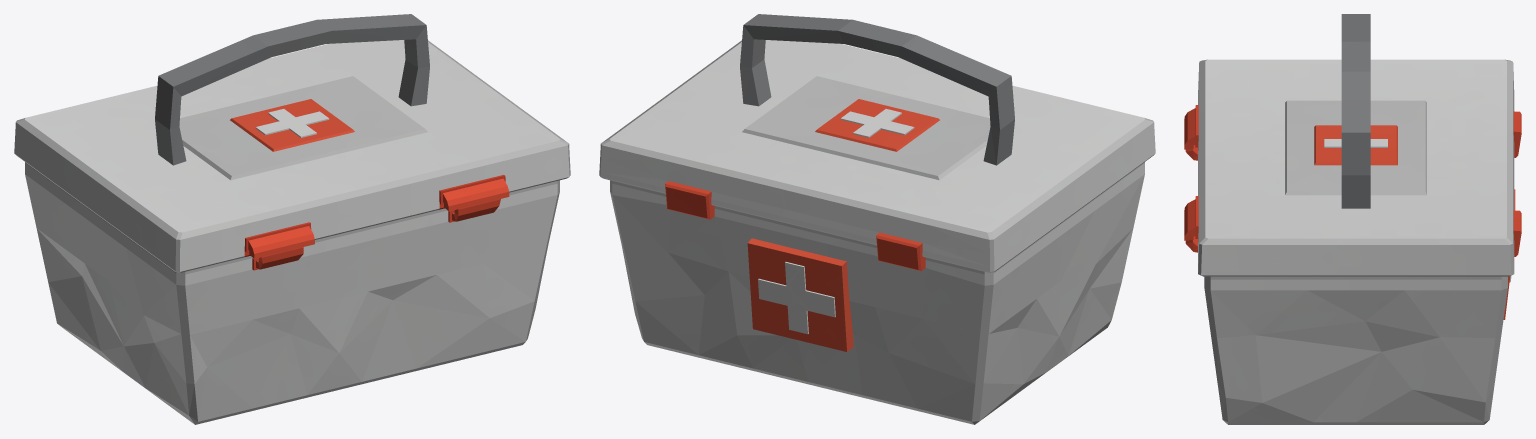
Rendered from medpack_1.obj.
The picture shows the model from 3 angles, left to right: view 1: azimuth 30°, elevation 25°; view 2: azimuth 150°, elevation 25°; view 3: azimuth 270°, elevation 25°; orthographic projection. The views are drawn at different scales.
Parts seen in each view (by area): view 1: medpack_1_Material; view 2: medpack_1_Material; view 3: medpack_1_Material.
Part boxes in pixels (x1,y1,x2,y2): medpack_1_Material: (14,14,570,424); medpack_1_Material: (599,14,1155,424); medpack_1_Material: (1184,14,1521,424).
Size of the model in its own units: 0.4011 by 0.2941 by 0.3088.
